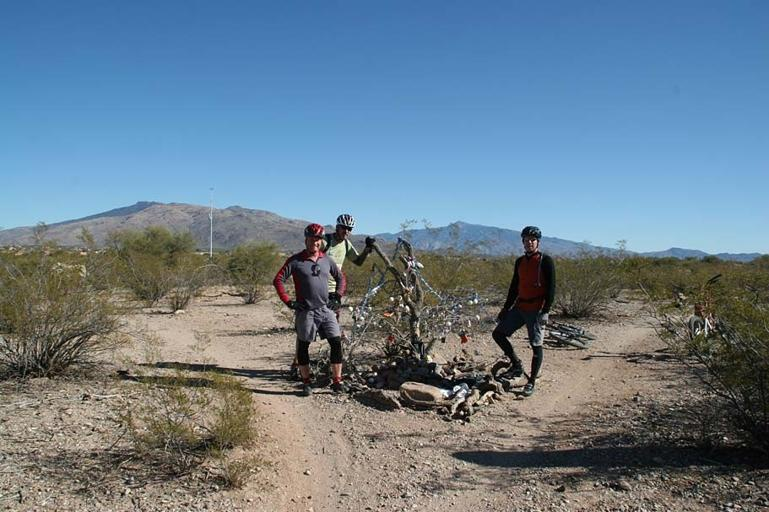non-vehicle: (669, 274, 722, 346), (541, 319, 596, 348)
